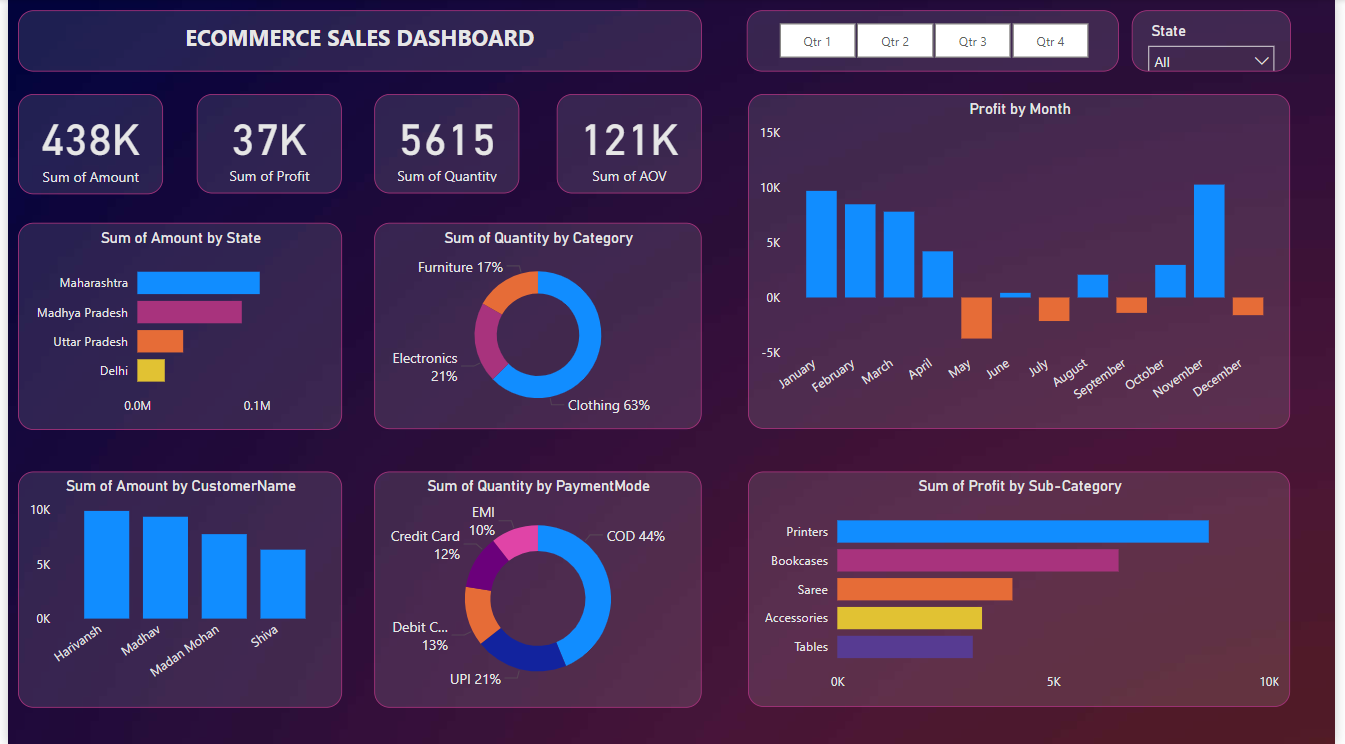

The page's visual inventory and layout, read from the dashboard file:
{"tool":"powerbi","page":{"name":"Page 1","canvas":[1280,720],"ordinal":0},"visuals":[{"type":"textbox","box":[9.6,11,660,59],"z":0},{"type":"columnChart","title":"Profit by Month","fields":{"Y":["Sum(Details.Profit)"],"Category":["Orders.Order Date.Variation.Date Hierarchy.Month"]},"box":[714.2,91.7,523.6,323.3],"z":1000},{"type":"barChart","fields":{"Category":["Details.Sub-Category"],"Y":["Sum(Details.Profit)"]},"box":[714.2,456,523.6,226.8],"z":2000},{"type":"donutChart","fields":{"Category":["Details.Category"],"Y":["Sum(Details.Quantity)"]},"box":[354,215.4,315.6,199],"z":3000},{"type":"donutChart","fields":{"Y":["Sum(Details.Quantity)"],"Category":["Details.PaymentMode"]},"box":[354,455.6,315.6,227.8],"z":4000},{"type":"card","fields":{"Values":["Sum(Details.Amount)"]},"box":[9.7,91.7,139.9,96.5],"z":5000},{"type":"card","fields":{"Values":["Sum(Details.Quantity)"]},"box":[354,91.9,140,96.1],"z":6000},{"type":"card","fields":{"Values":["Sum(Details.Profit)"]},"box":[182.5,91.9,140,96.1],"z":7000},{"type":"card","fields":{"Values":["Sum(Details.Aov)"]},"box":[529.7,91.9,140,96.1],"z":8000},{"type":"barChart","fields":{"Category":["Orders.State"],"Y":["Sum(Details.Amount)"]},"box":[9.6,215.4,312.9,200.3],"z":9000},{"type":"columnChart","fields":{"Category":["Orders.CustomerName"],"Y":["Sum(Details.Amount)"]},"box":[9.6,455.6,312.9,227.8],"z":10000},{"type":"slicer","fields":{"Values":["Orders.Order Date.Variation.Date Hierarchy.Quarter"]},"box":[713.6,11,359.5,59],"z":10001},{"type":"slicer","fields":{"Values":["Orders.State"]},"box":[1084.1,11,153.7,59],"z":10002}]}

Visuals, with their boxes in screenshot pixels (x1, y1, x2, y2), scaled from the page's 1280x720 canvas onto the 1345x744 screenshot:
textbox: bbox=[10, 11, 704, 72]
"Profit by Month" columnChart: bbox=[750, 95, 1301, 429]
barChart - Details.Sub-Category x Sum(Details.Profit): bbox=[750, 471, 1301, 706]
donutChart - Details.Category x Sum(Details.Quantity): bbox=[372, 223, 704, 428]
donutChart - Sum(Details.Quantity) x Details.PaymentMode: bbox=[372, 471, 704, 706]
card - Sum(Details.Amount): bbox=[10, 95, 157, 194]
card - Sum(Details.Quantity): bbox=[372, 95, 519, 194]
card - Sum(Details.Profit): bbox=[192, 95, 339, 194]
card - Sum(Details.Aov): bbox=[557, 95, 704, 194]
barChart - Orders.State x Sum(Details.Amount): bbox=[10, 223, 339, 430]
columnChart - Orders.CustomerName x Sum(Details.Amount): bbox=[10, 471, 339, 706]
slicer - Orders.Order Date.Variation.Date Hierarchy.Quarter: bbox=[750, 11, 1128, 72]
slicer - Orders.State: bbox=[1139, 11, 1301, 72]
